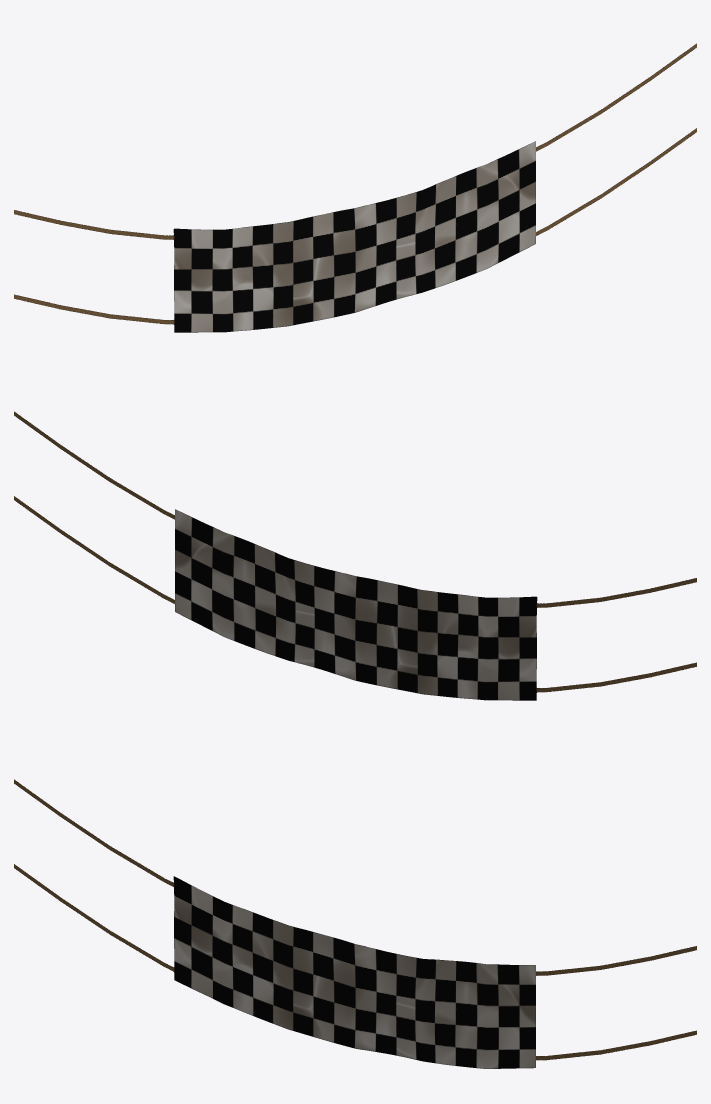
Rendered from finish.fbx.
3 views of the same model, one above another, from view 1: azimuth 30°, elevation 25°; view 2: azimuth 150°, elevation 25°; view 3: azimuth 330°, elevation 25° (orthographic).
Visible parts, largest first — view 1: Plane; view 2: Plane; view 3: Plane.
Part boxes in pixels (x1=…): Plane: x1=14, y1=43, x2=696, y2=332; Plane: x1=14, y1=411, x2=696, y2=700; Plane: x1=14, y1=779, x2=696, y2=1068.
Bounding box in the file's own units: 1600 × 531 × 1.51e-05.
Materials: 1 (1 with a texture image).
